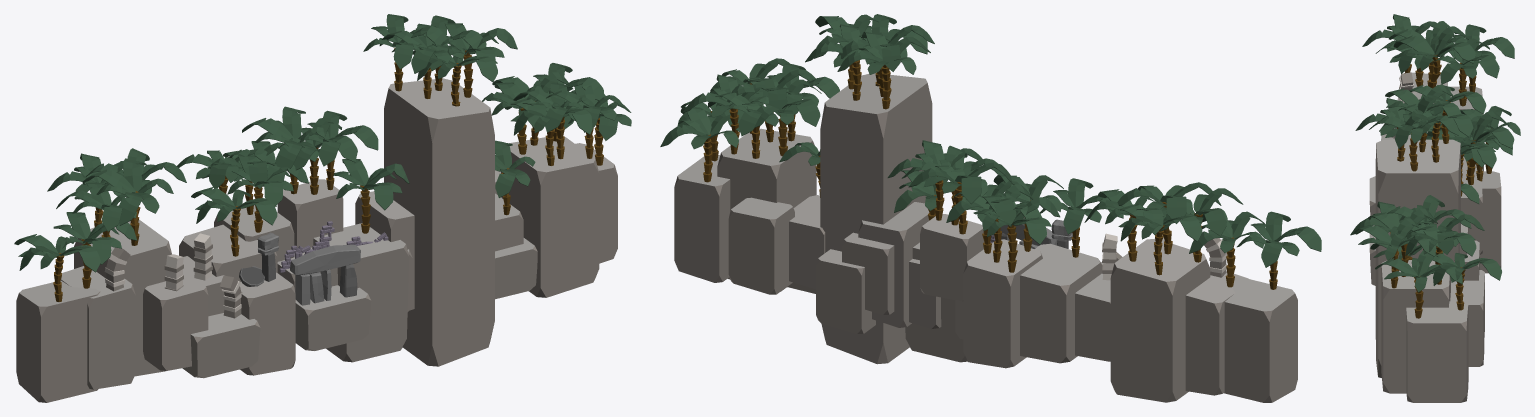
Rendered from Border1.fbx.
3 views of the same model, side by side, from view 1: azimuth 30°, elevation 25°; view 2: azimuth 150°, elevation 25°; view 3: azimuth 270°, elevation 25° (orthographic). The views are drawn at different scales.
Visible parts, largest first — view 1: Cube.212; view 2: Cube.212; view 3: Cube.212.
Boxes of the visible parts, <box> form: Cube.212: <box>14,14,631,402</box>; Cube.212: <box>660,14,1321,402</box>; Cube.212: <box>1350,14,1520,402</box>.
Bounding box in the file's own units: 24507 × 11703 × 6624.
